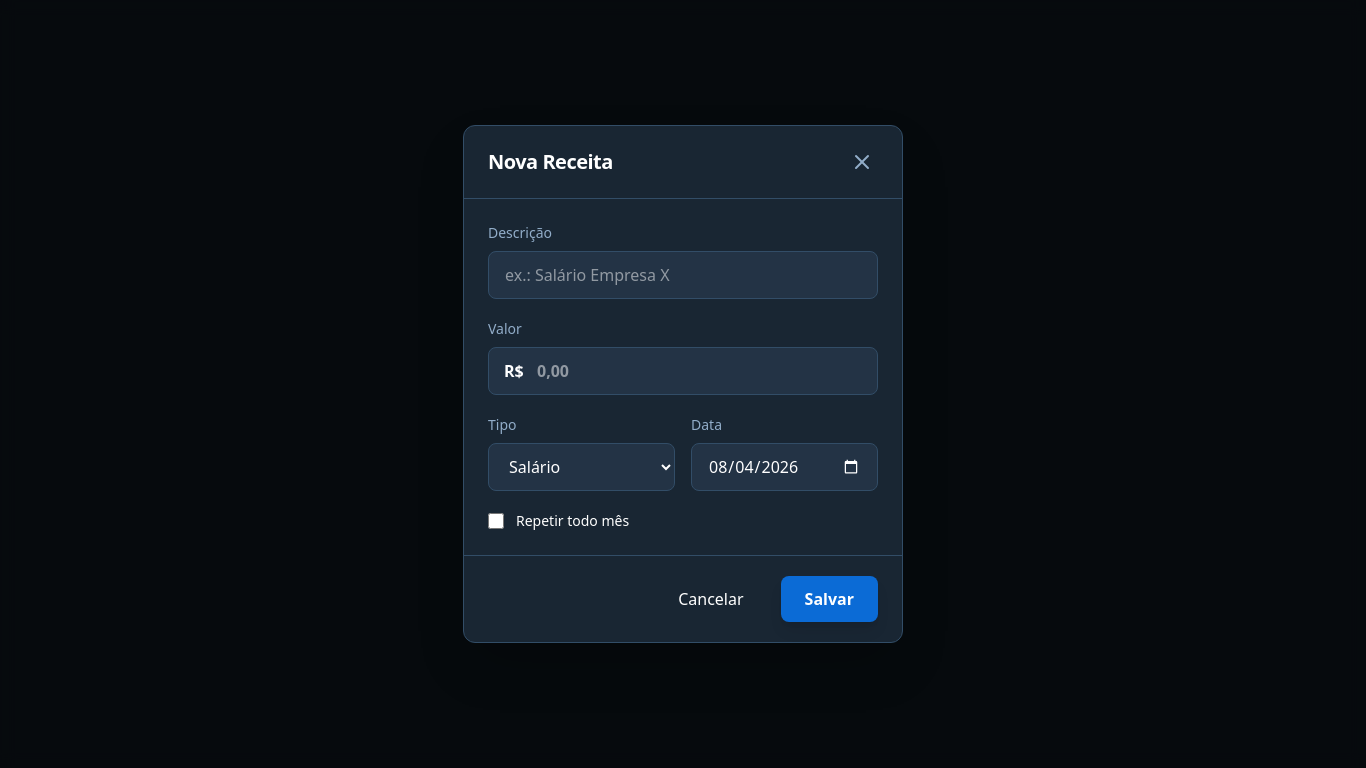
Test: IncomeModal — criação › valida descrição e valor (>0) e bloqueia o envio
Step 1. Type "0" into the field labelled "Valor" → [683, 371], box [488,347,878,395]
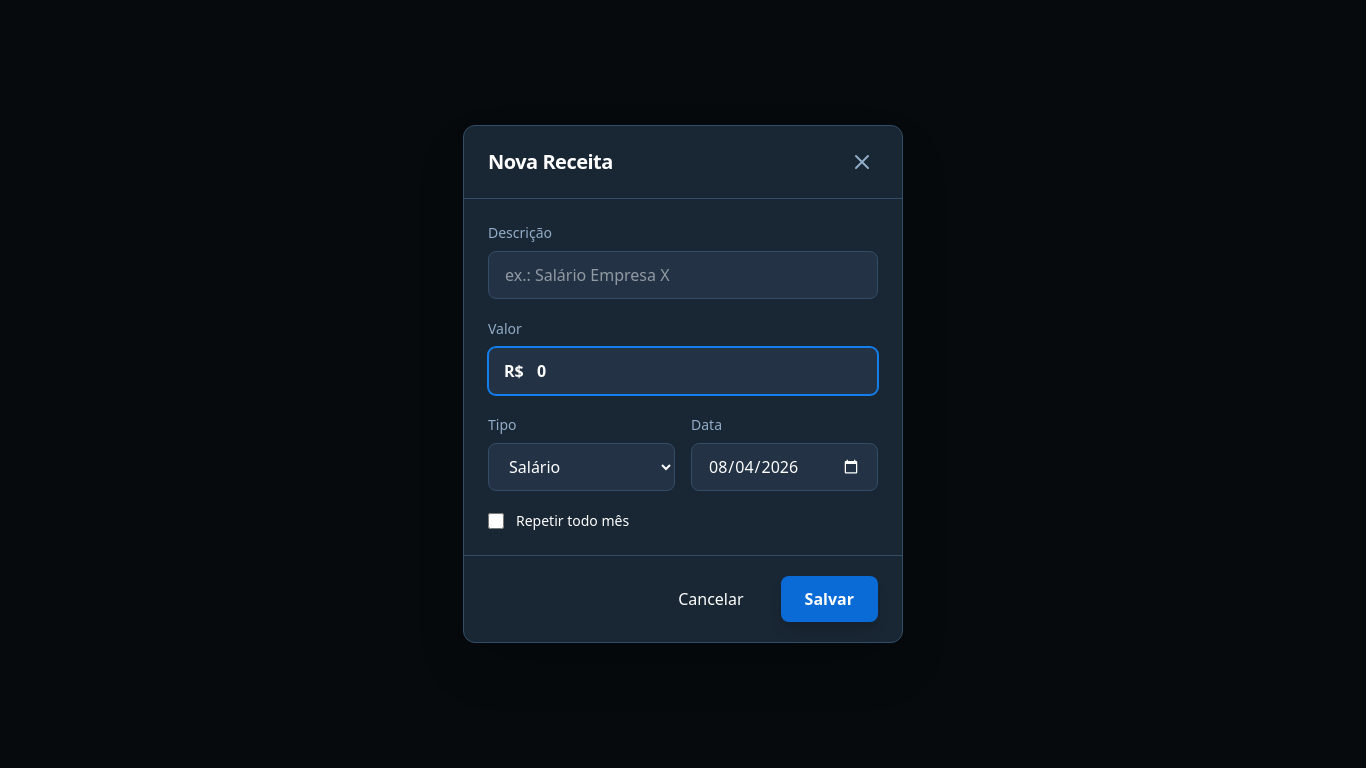
Step 2. Click the button "Salvar" → [829, 599], box [781,576,878,622]
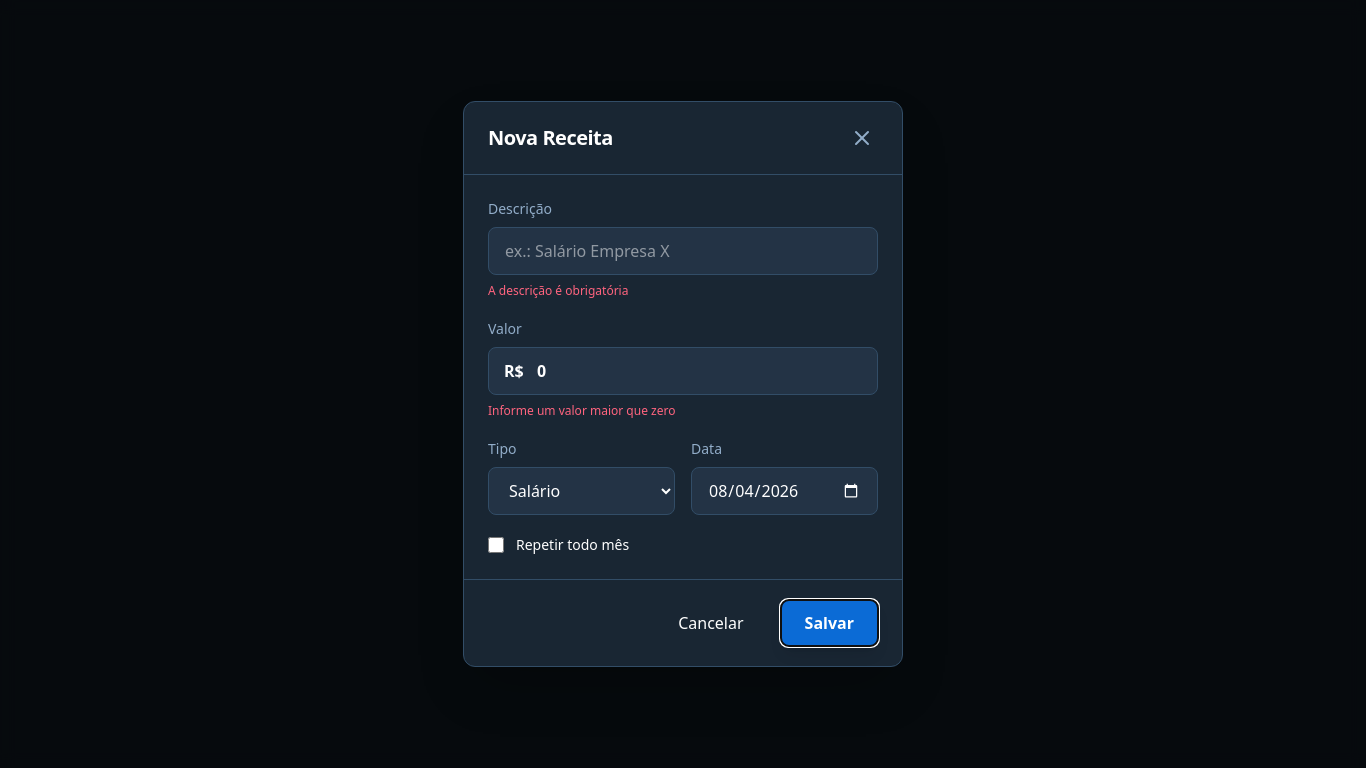
Expected: the text "A descrição é obrigatória" is shown, [488,282,628,299]
Expected: the text "Informe um valor maior que zero" is shown, [488,402,675,419]
